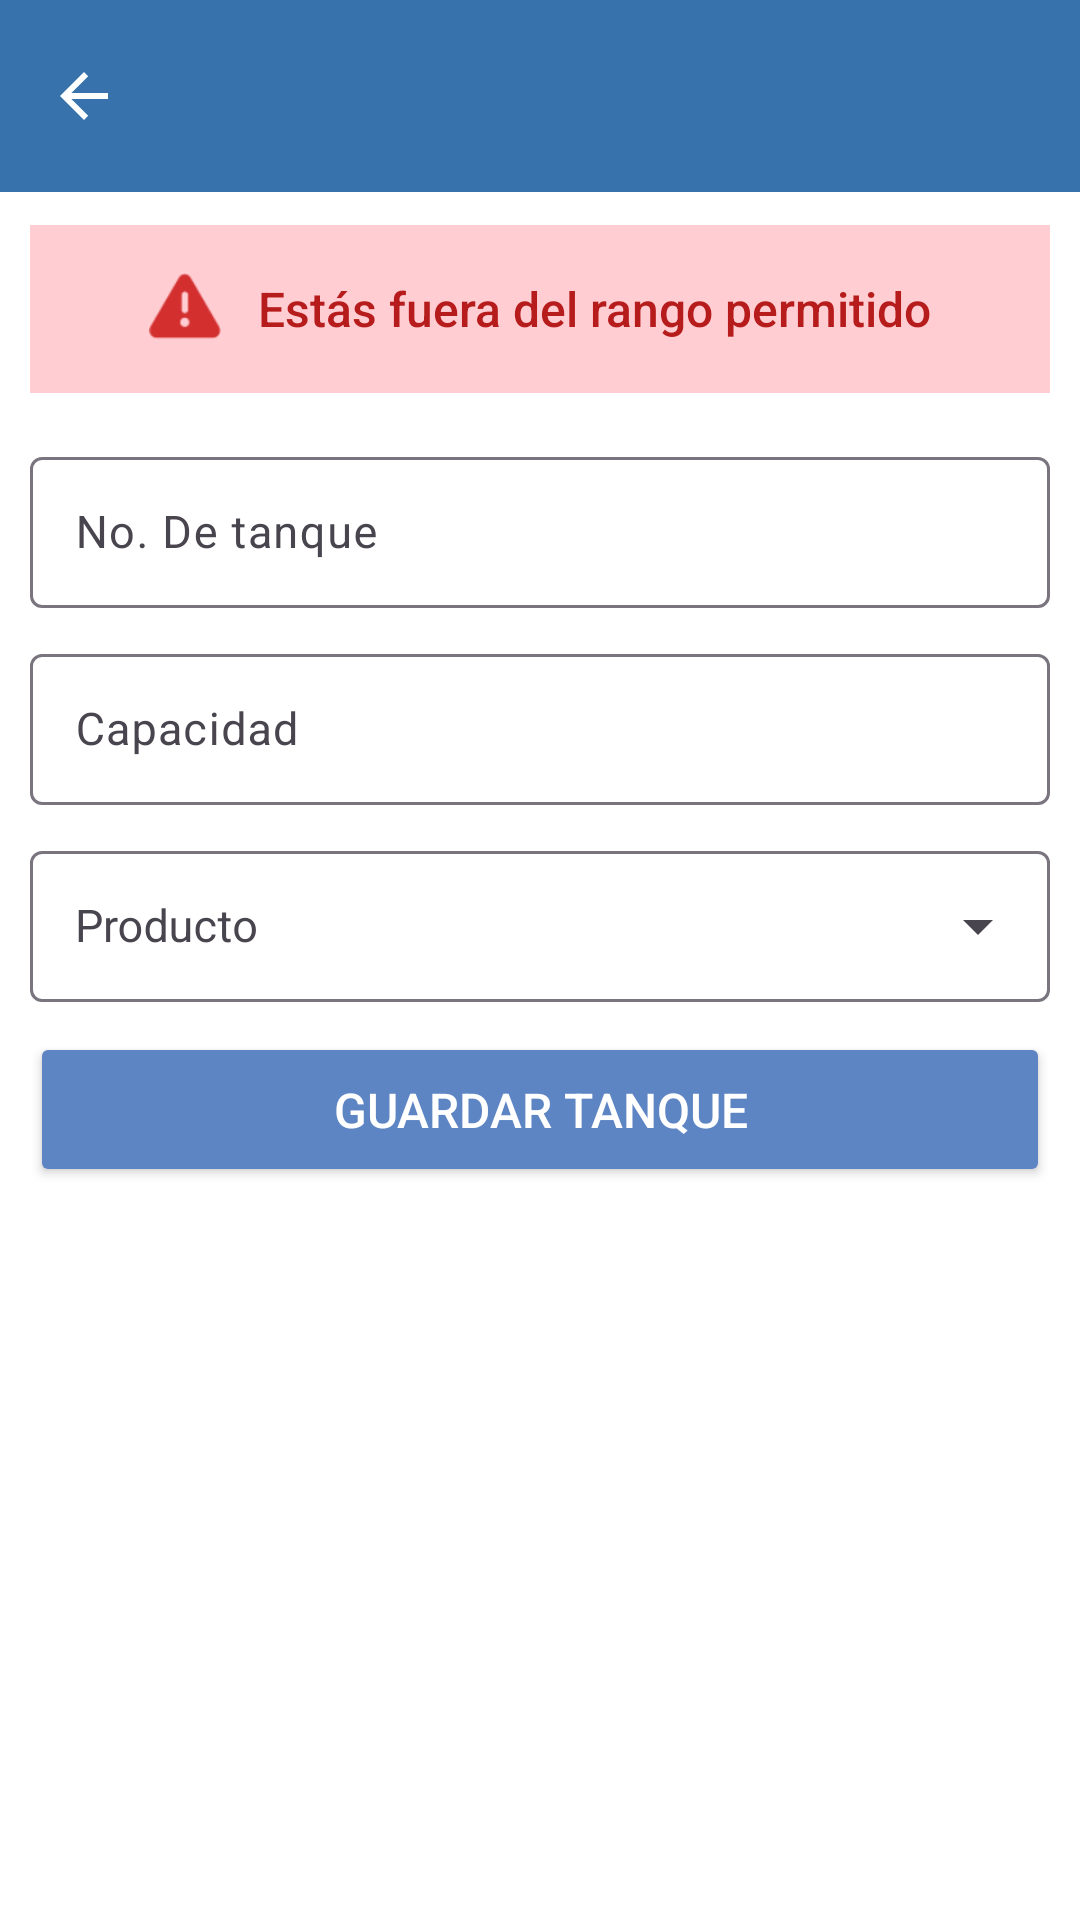

Named icons in this screenshot (1080x1920) and their centers, (x,y):
alert: (185,306)
